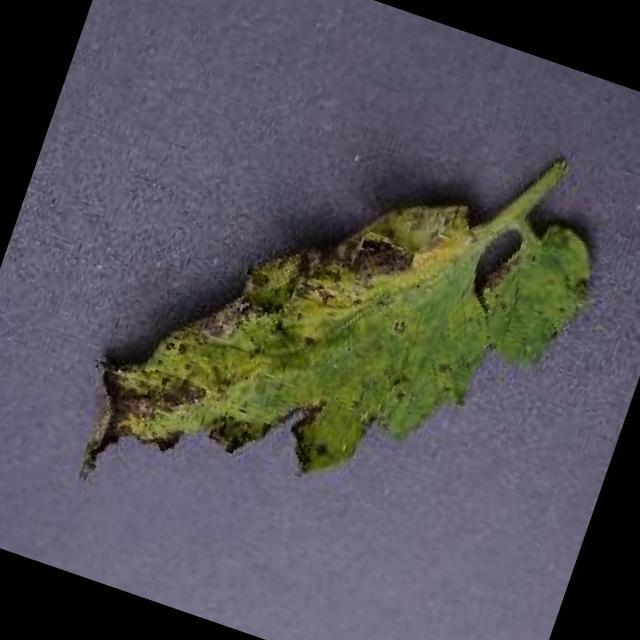Tomato Septoria spot leaf: (82, 101, 604, 590)
